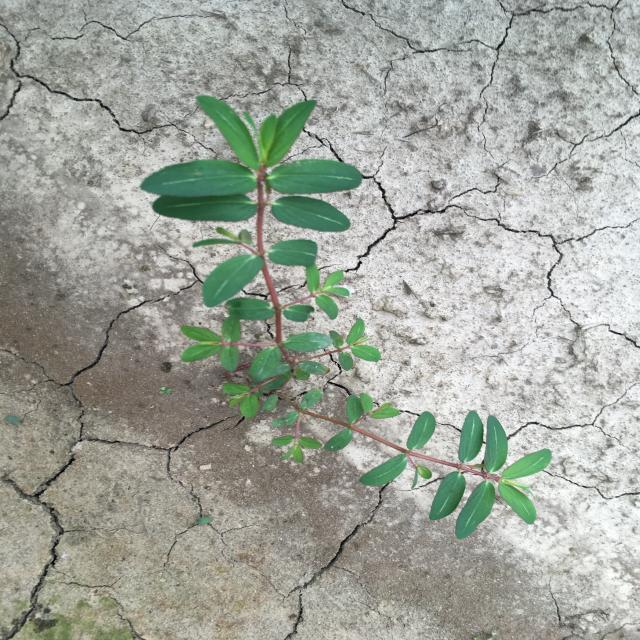SpottedSpurge: (139, 96, 554, 540)
